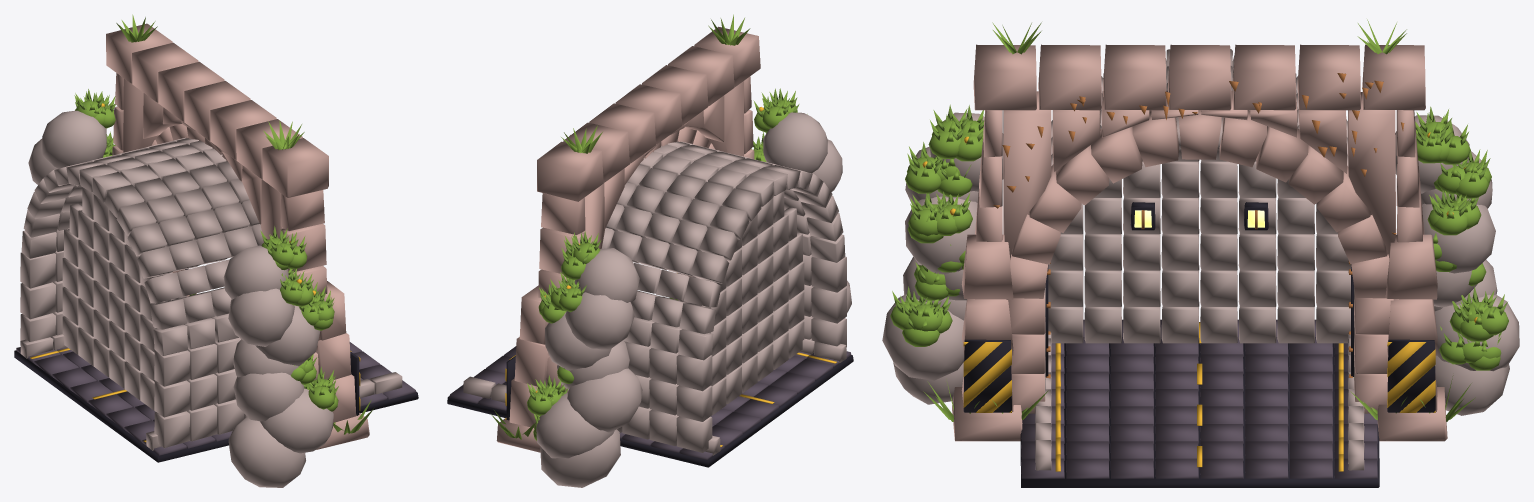
The model's file is bld.tunnel-portal.lod2.glb.
3 views of the same model, side by side, from view 1: azimuth 30°, elevation 25°; view 2: azimuth 150°, elevation 25°; view 3: azimuth 270°, elevation 25° (orthographic). The views are drawn at different scales.
Visible parts, largest first — view 1: roof, body, interior; view 2: roof, body, interior; view 3: interior, body, roof.
Boxes of the visible parts, x1,y1,x2,y2 form: roof: (21, 23, 328, 355); body: (28, 14, 374, 487); interior: (14, 187, 418, 462); roof: (537, 26, 845, 360); body: (491, 14, 851, 487); interior: (447, 191, 853, 467); interior: (1020, 149, 1379, 487); body: (882, 19, 1519, 441); roof: (973, 44, 1425, 298).
Bounding box in the file's own units: 7.3 × 8.64 × 12.39.
